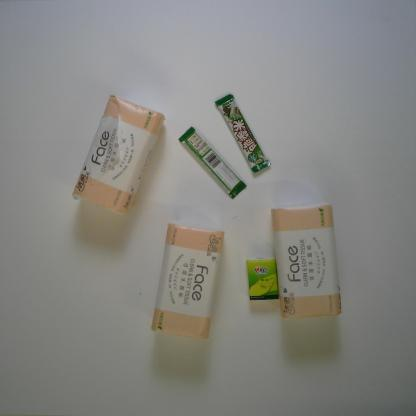Chocolate: (178, 125, 248, 201), (214, 93, 272, 174)
Tissue: (71, 94, 165, 217), (269, 201, 345, 320), (150, 224, 224, 341), (244, 256, 280, 303)
